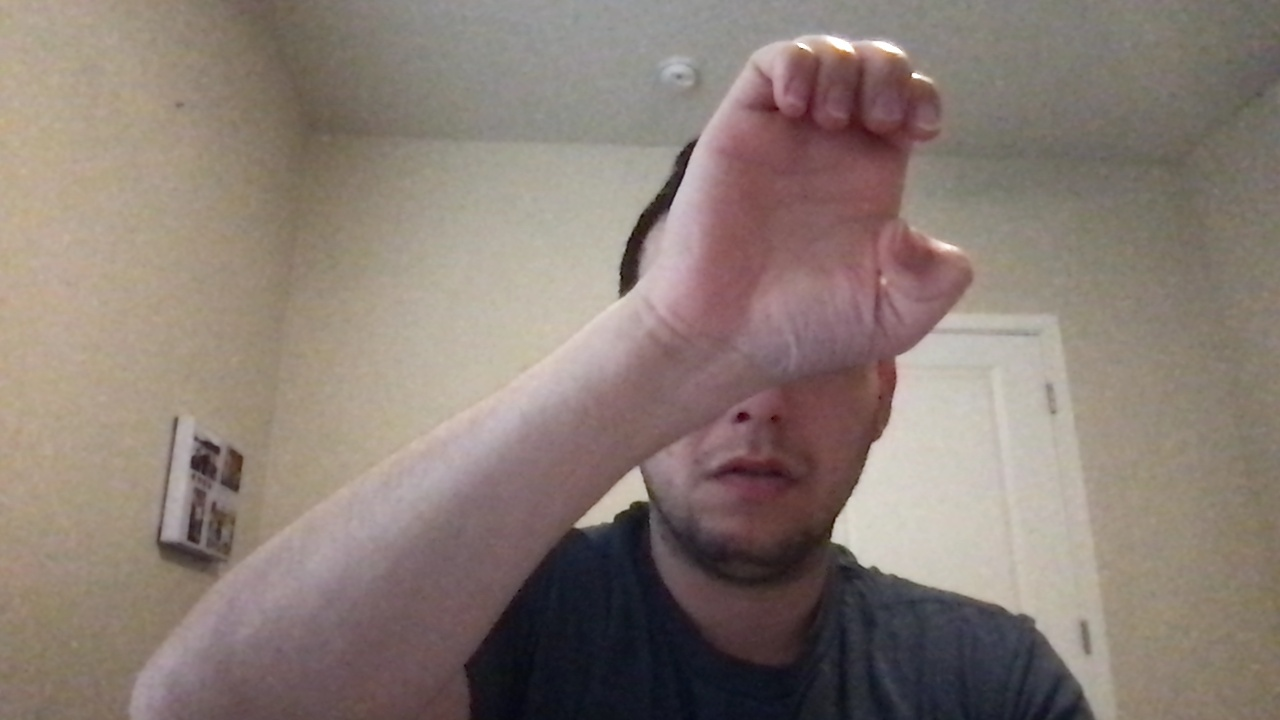e: (672, 20, 988, 397)
